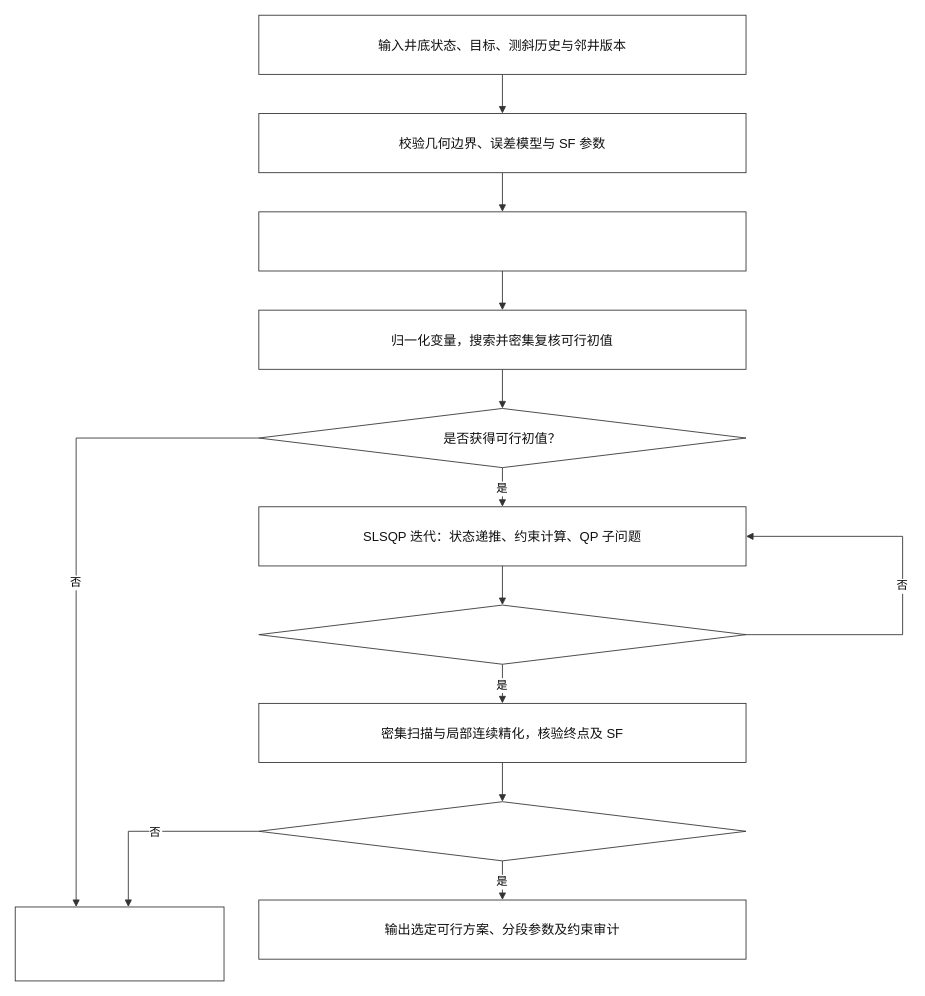
Image size: 925x996. Some labels were removed from this diagram. The shapes that lost their labels are listed below. From the top down, each one's centre as x and y in pixels, then its label:
the point at 502,241: 构造圆弧/直线段序列并消除固定变量
the point at 502,634: 收敛或达到迭代/时间/函数评估预算？
the point at 502,831: 候选方案是否通过复核？
the point at 119,943: 结束：未找到可行方案 记录原因，不声明数学无解
